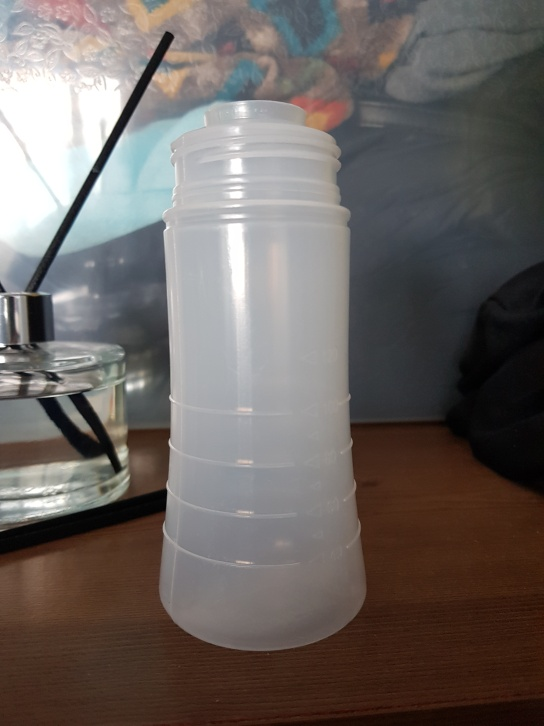Plastic: (158, 97, 373, 655)
